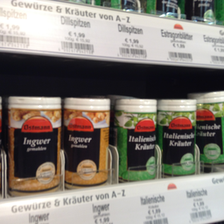spices: (8, 95, 61, 193), (63, 96, 111, 187), (115, 97, 157, 181), (157, 98, 196, 174), (190, 91, 224, 165)
